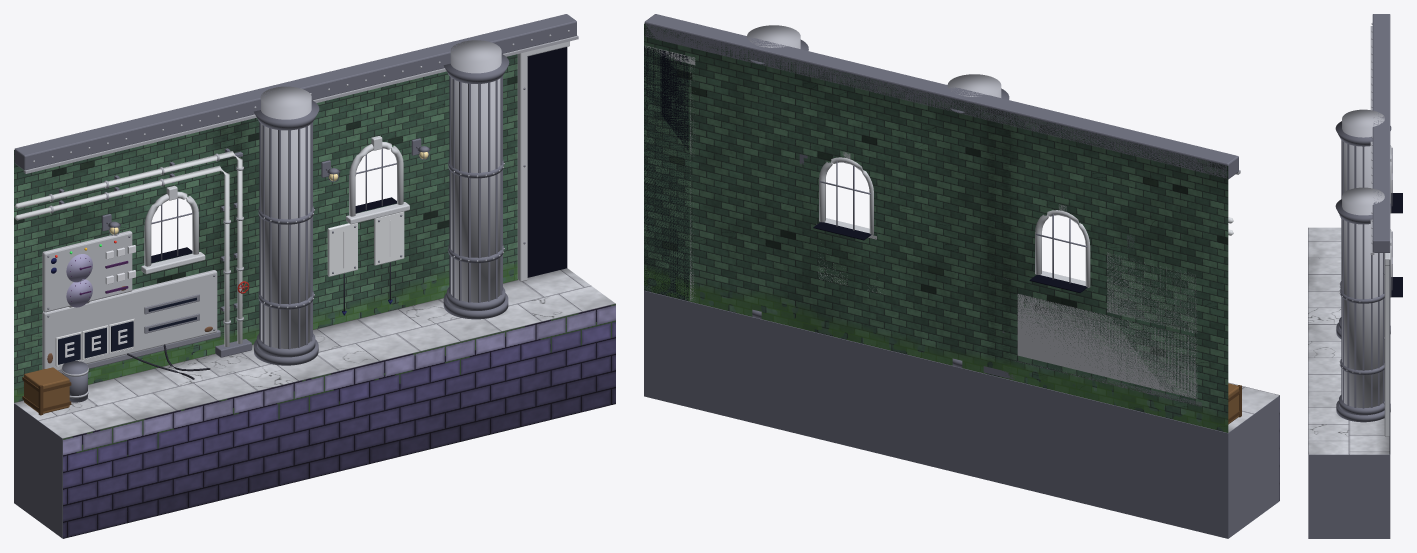
File: room.glb
The picture shows the model from 3 angles, left to right: view 1: azimuth 30°, elevation 25°; view 2: azimuth 150°, elevation 25°; view 3: azimuth 270°, elevation 25°; orthographic projection. The views are drawn at different scales.
Parts seen in each view (by area): view 1: room, room_wall, room_front, room_floor; view 2: room_wall, room, room_floor; view 3: room, room_floor.
Part boxes in pixels (<box>): room: <box>14,14,578,538</box>; room_wall: <box>14,54,517,402</box>; room_front: <box>63,304,615,538</box>; room_floor: <box>14,268,615,438</box>; room_wall: <box>644,23,1228,432</box>; room: <box>644,14,1279,538</box>; room_floor: <box>1228,382,1279,432</box>; room: <box>1308,14,1402,538</box>; room_floor: <box>1308,227,1389,454</box>.
Bounding box in the file's own units: 15.07 × 9.2 × 2.65.
Materials: 4 (4 with a texture image).
